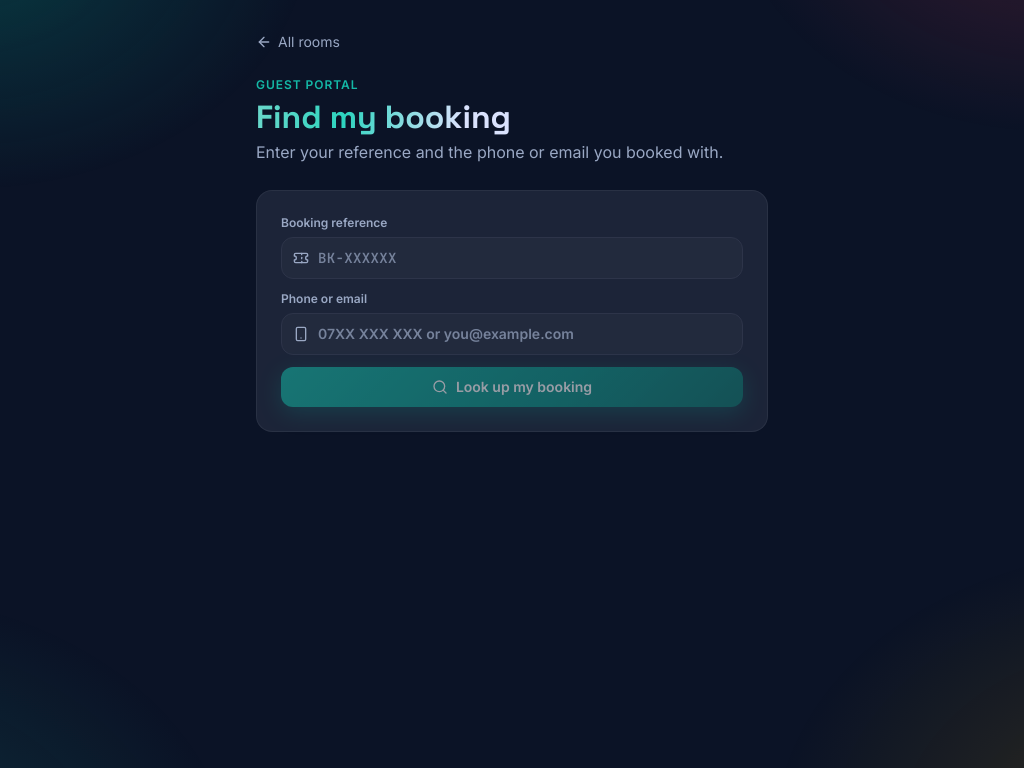
Test: guest portal page › shows a generic no-match message
In the field labelled "Booking reference": (512, 258) [281,237,743,279], type "BK-WRONG1"
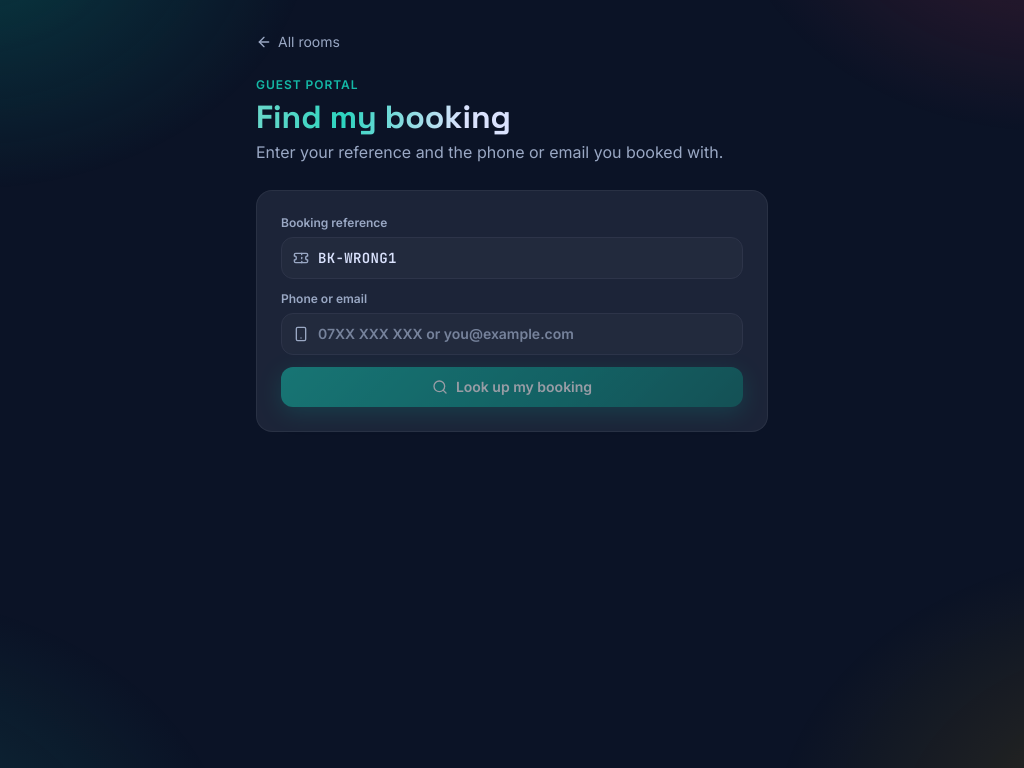
In the field labelled "Phone or email": (512, 334) [281,313,743,355], type "nobody@x.test"
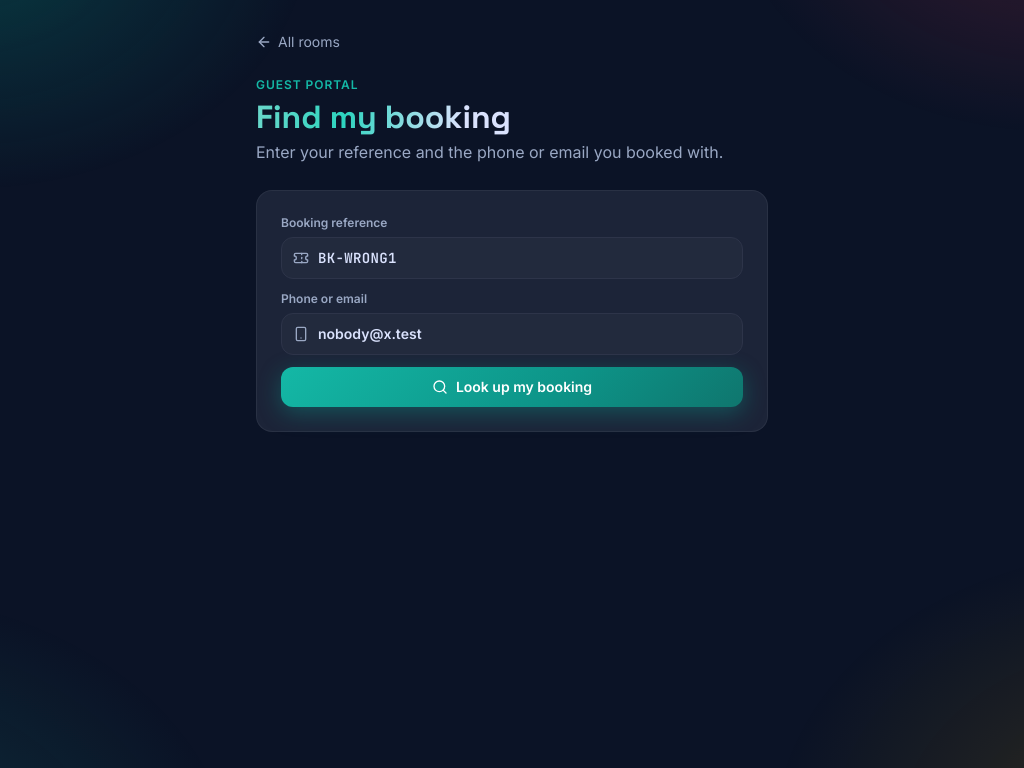
Click the button "Look up my booking": (512, 387) [281,367,743,407]
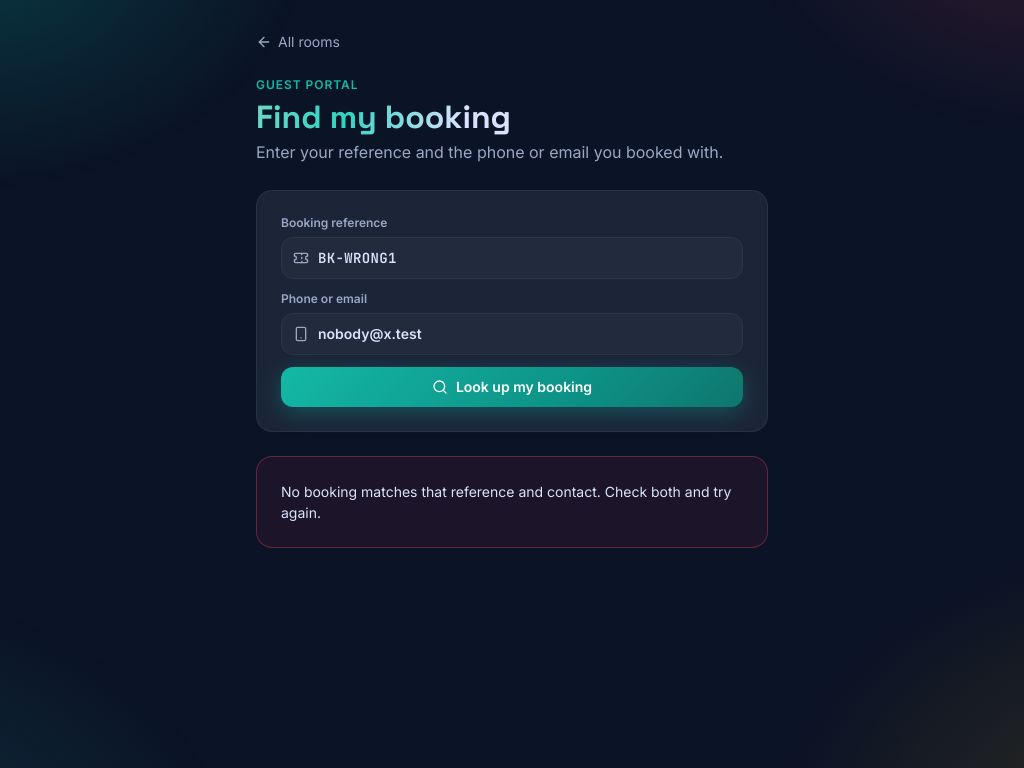
Expected: the text "No booking matches" is shown, [281,483,731,521]
